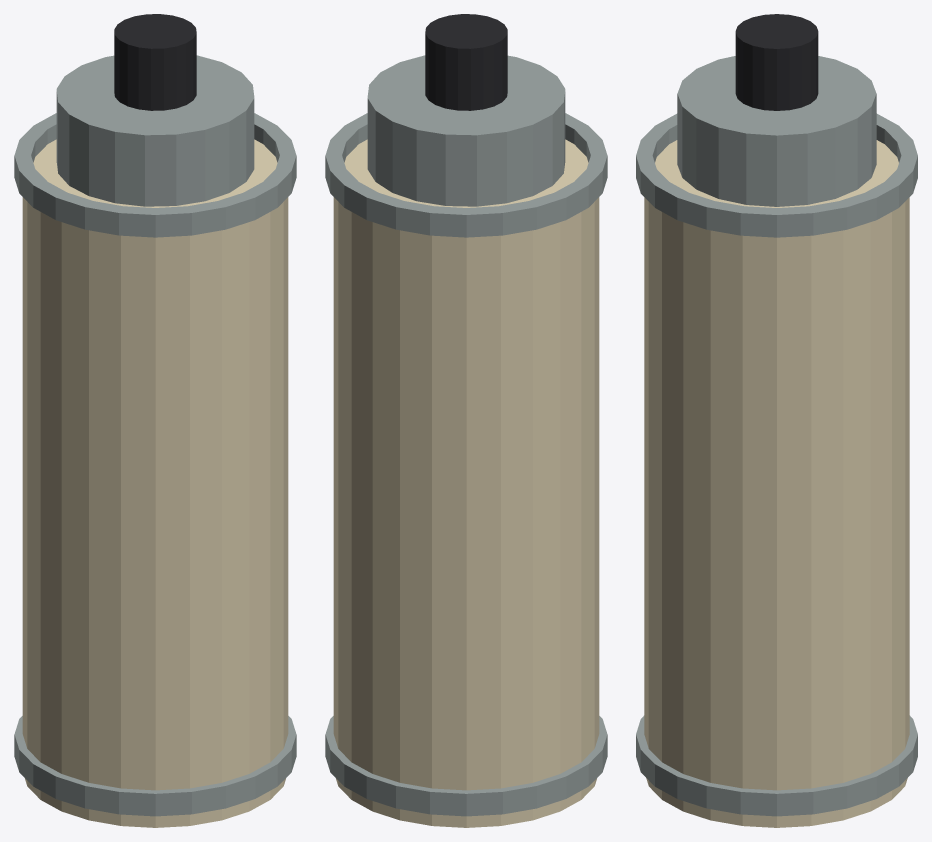
The model's file is TOOL_SprayCan.glb.
3 views of the same model, side by side, from view 1: azimuth 30°, elevation 25°; view 2: azimuth 150°, elevation 25°; view 3: azimuth 270°, elevation 25° (orthographic).
Visible parts, largest first — view 1: PaintBody, Shoulder, Rims, Nozzle; view 2: PaintBody, Shoulder, Rims, Nozzle; view 3: PaintBody, Shoulder, Rims, Nozzle.
Part boxes in pixels (x1,y1,x2,y2): PaintBody: [22, 139, 288, 827]; Shoulder: [56, 55, 254, 206]; Rims: [14, 113, 296, 816]; Nozzle: [114, 14, 196, 110]; PaintBody: [333, 139, 599, 827]; Shoulder: [367, 55, 565, 206]; Rims: [325, 113, 607, 816]; Nozzle: [425, 14, 507, 110]; PaintBody: [644, 140, 909, 827]; Shoulder: [677, 56, 876, 206]; Rims: [636, 113, 917, 816]; Nozzle: [735, 14, 818, 110].
Size of the model in its own units: 0.068 by 0.197 by 0.068.
